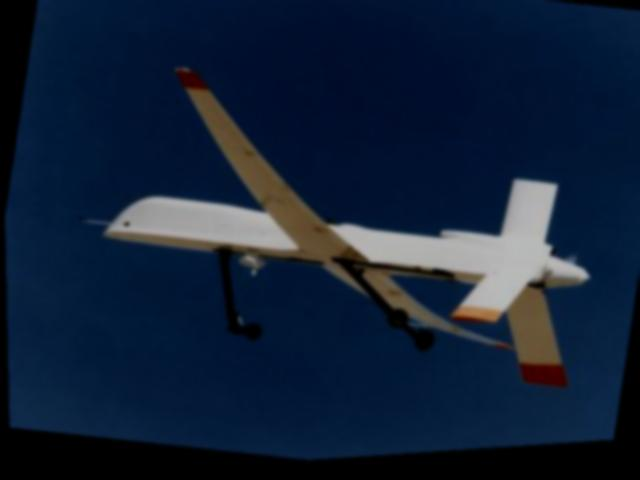uav: (80, 39, 619, 425)
